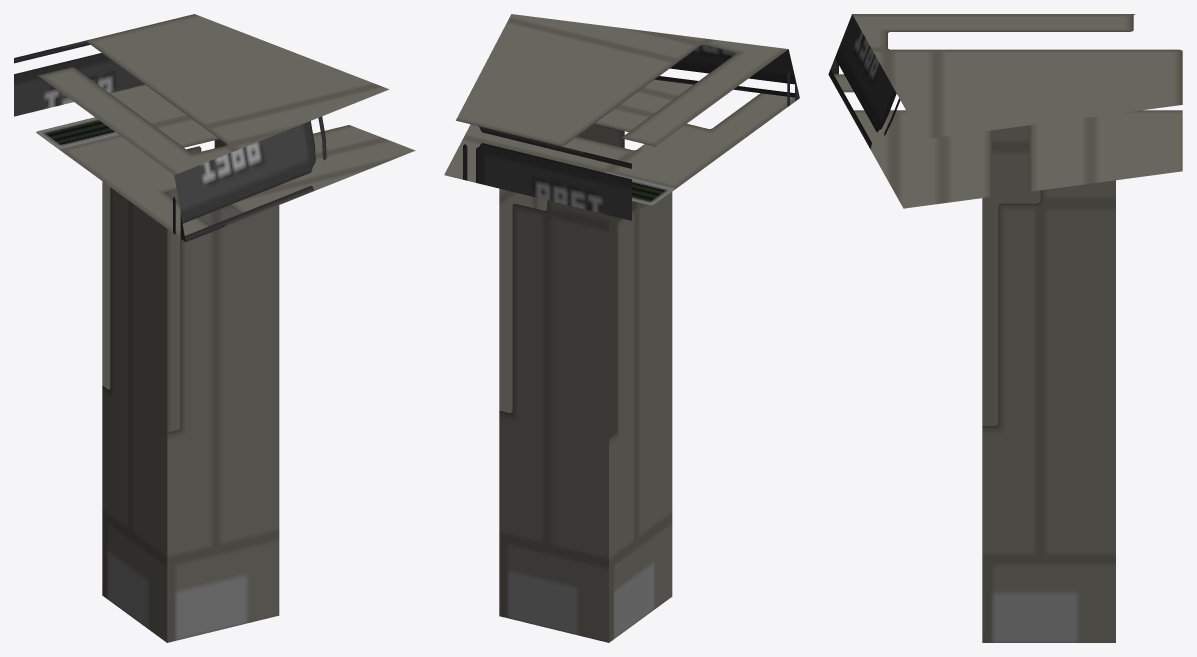
The model's file is deb_rod.obj.
3 renders of one model, left to right at view 1: azimuth 30°, elevation 25°; view 2: azimuth 150°, elevation 25°; view 3: azimuth 270°, elevation 25°, orthographic. The views are drawn at different scales.
Visible parts, largest first — view 1: Lid; view 2: Lid; view 3: Lid.
Boxes of the visible parts, box(x1,y1,x2,y2) form: Lid: box(14, 14, 415, 642); Lid: box(444, 14, 799, 642); Lid: box(828, 14, 1182, 642).
Bounding box in the file's own units: 0.5947 × 1.12 × 0.6634.
